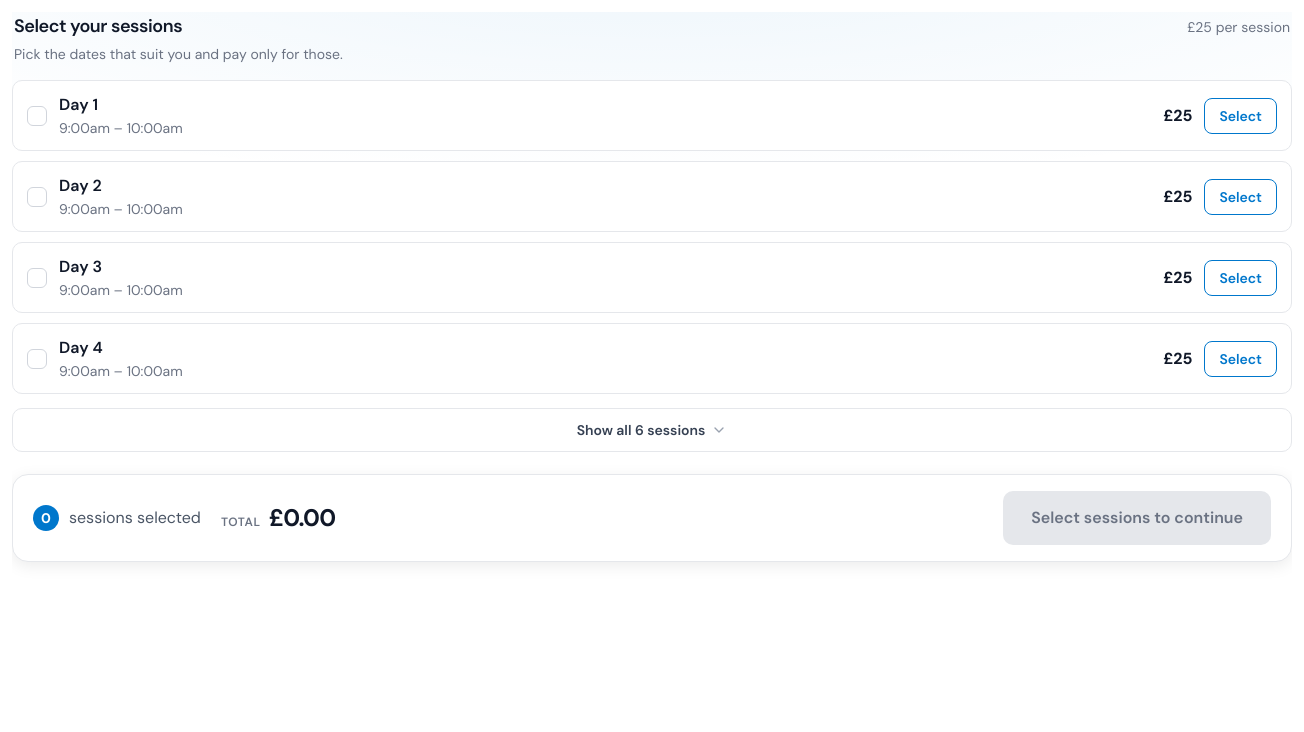
Test case: SessionPicker — collapse toggle › expands to show all sessions after clicking the toggle
Click the button with test id "toggle-sessions" at [652, 430], box [12,408,1292,452]
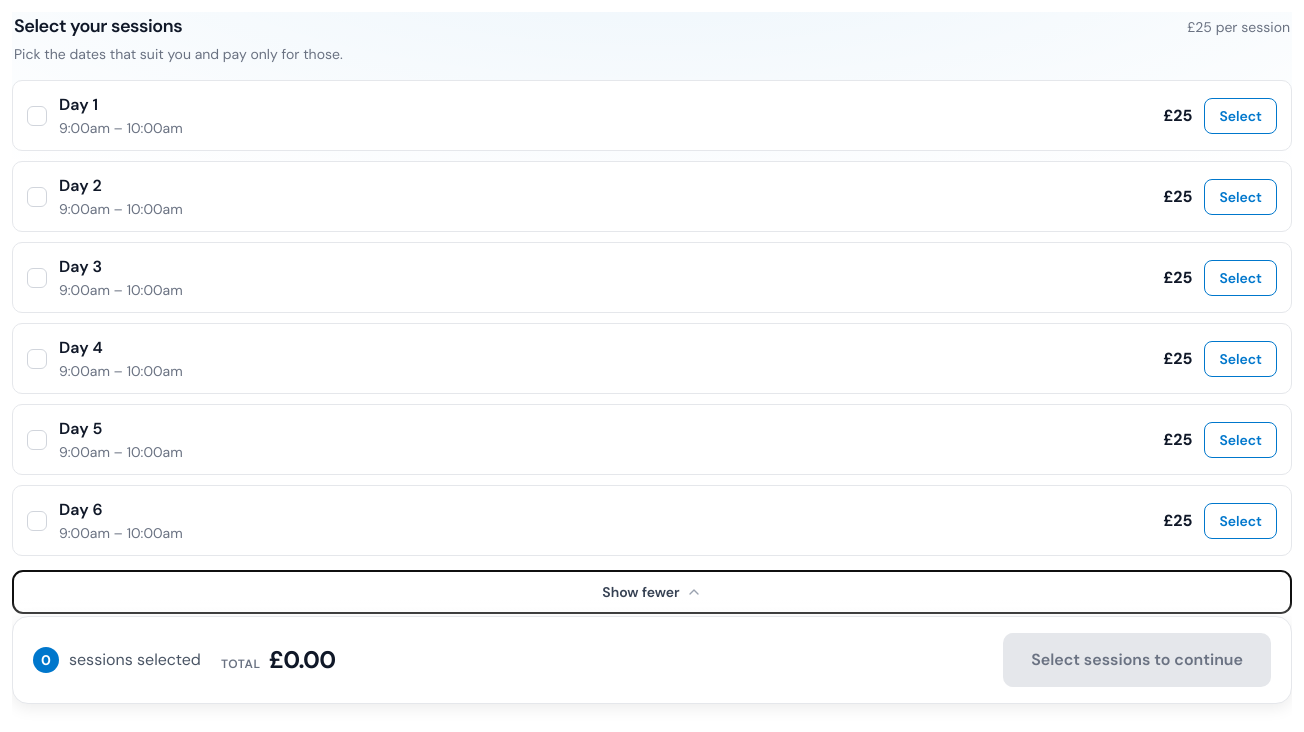
Now the number of buttons with test id "session-row" is 6, box [12,80,1292,151]; [12,161,1292,232]; [12,242,1292,313]; [12,323,1292,394]; [12,404,1292,475]; [12,485,1292,556]
